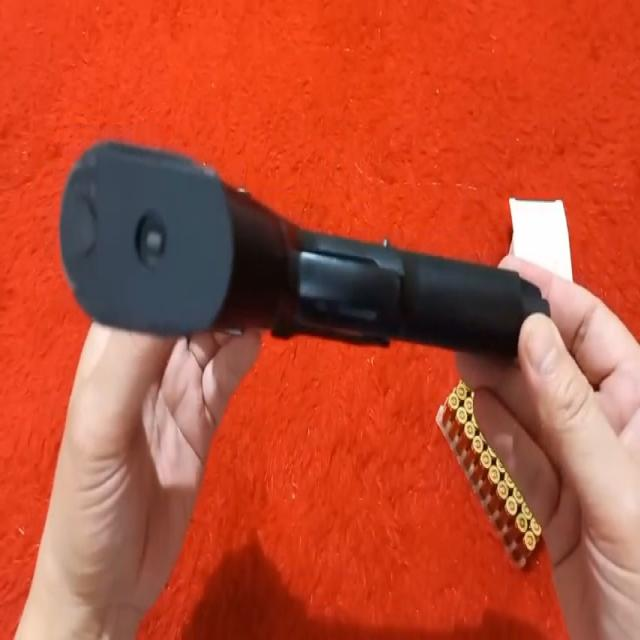handgun: (59, 124, 552, 380)
